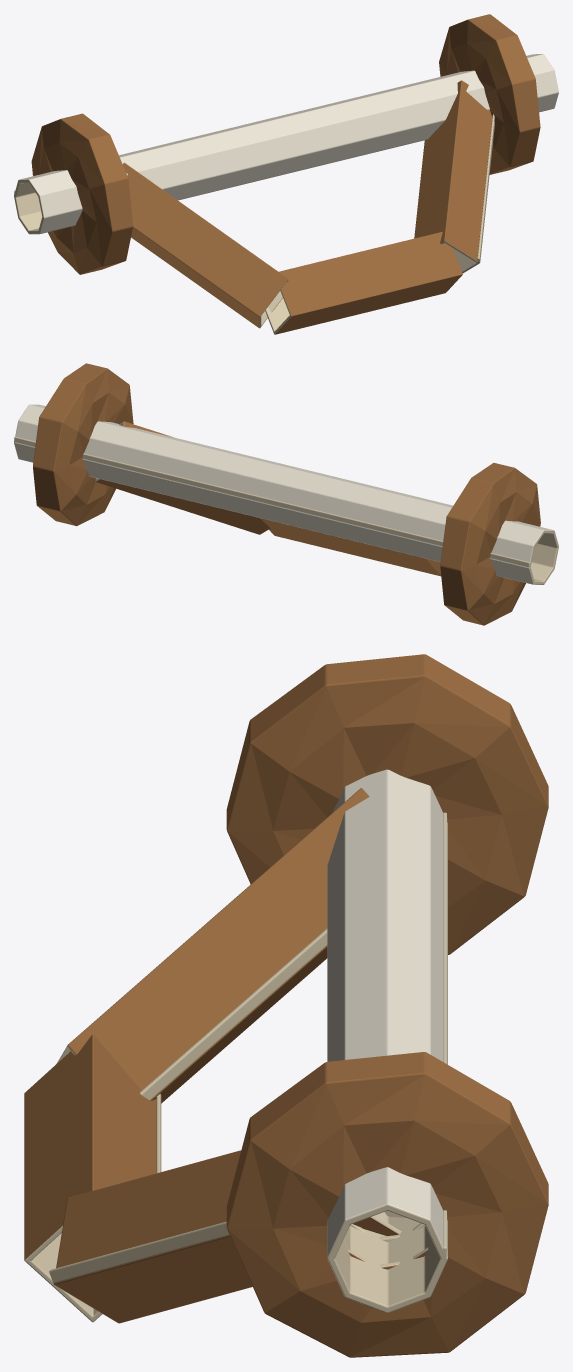
File: achievement-first-pr.glb
3 views of the same model, one above another, from view 1: azimuth 30°, elevation 25°; view 2: azimuth 150°, elevation 25°; view 3: azimuth 270°, elevation 25° (orthographic). The views are drawn at different scales.
Parts seen in each view (by area): view 1: achievement-first-pr; view 2: achievement-first-pr; view 3: achievement-first-pr.
Boxes of the visible parts, bbox=[...] form: achievement-first-pr: bbox=[14, 14, 558, 334]; achievement-first-pr: bbox=[14, 363, 558, 625]; achievement-first-pr: bbox=[24, 654, 548, 1357].
Size of the model in its own units: 2.1 by 0.7284 by 0.925.
